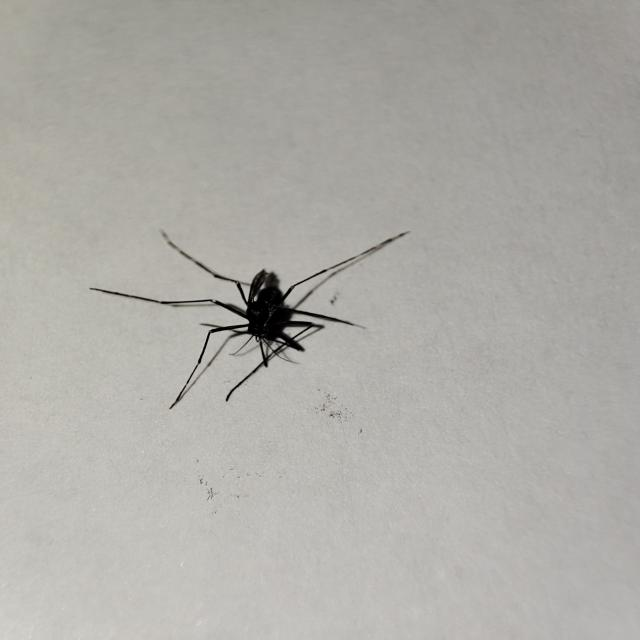albopictus: (86, 215, 406, 416)
